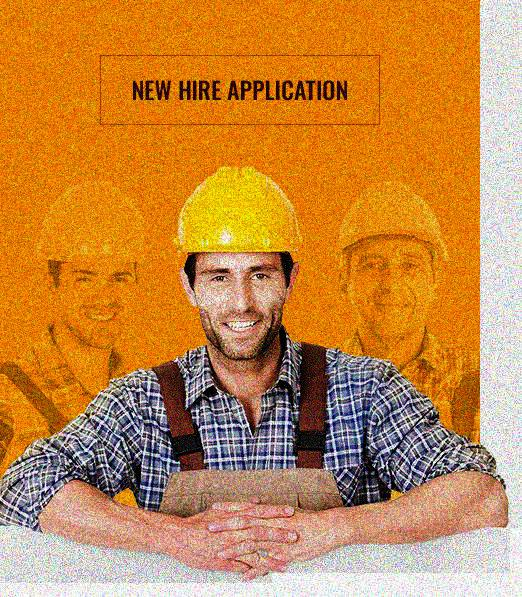helmet: (170, 163, 304, 362), (327, 174, 449, 346), (35, 177, 155, 348)
